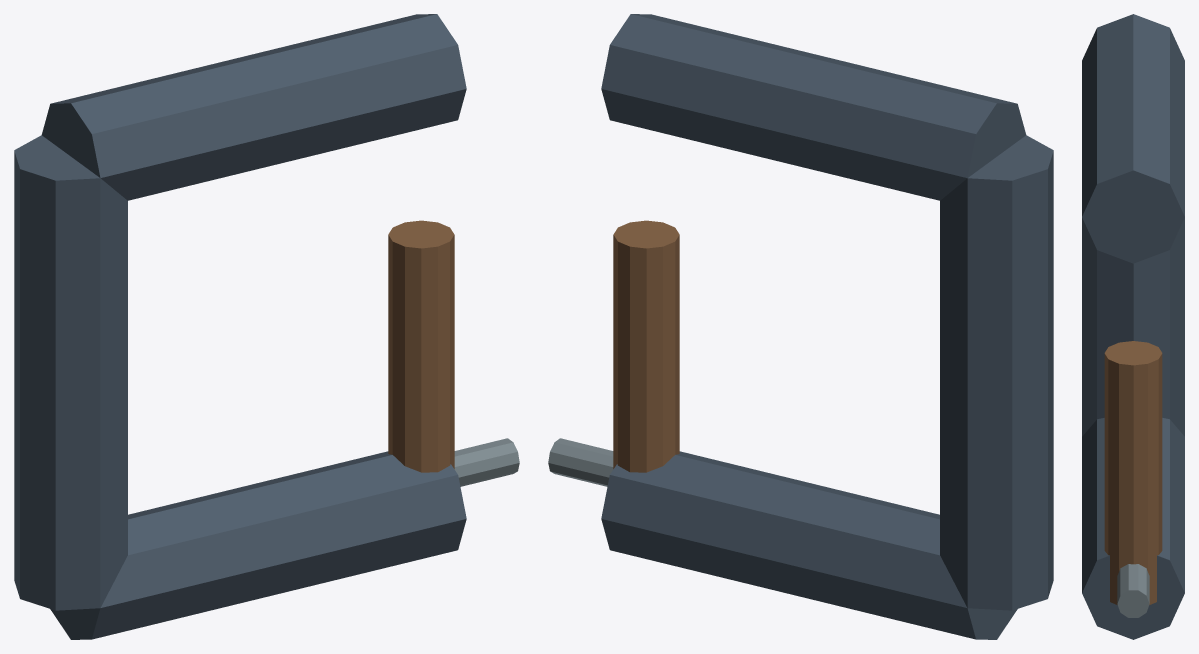
File: L-27_clamp_frame.glb
3 views of the same model, side by side, from view 1: azimuth 30°, elevation 25°; view 2: azimuth 150°, elevation 25°; view 3: azimuth 270°, elevation 25° (orthographic). The views are drawn at different scales.
Visible parts, largest first — view 1: L-27_clamp_frame; view 2: L-27_clamp_frame; view 3: L-27_clamp_frame.
Boxes of the visible parts, bbox=[...] form: L-27_clamp_frame: bbox=[14, 14, 519, 639]; L-27_clamp_frame: bbox=[548, 14, 1053, 639]; L-27_clamp_frame: bbox=[1082, 14, 1184, 639].
Size of the model in its own units: 0.154 by 0.161 by 0.032.
